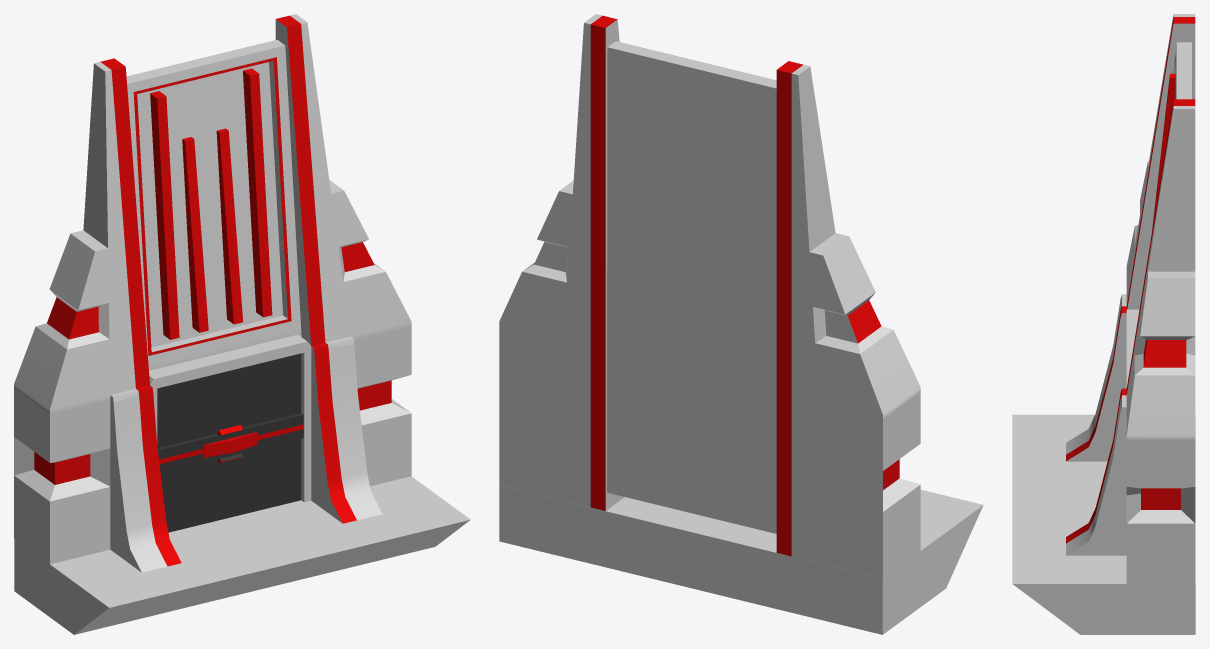
The model's file is gate_fortress.fbx.
3 views of the same model, side by side, from view 1: azimuth 30°, elevation 25°; view 2: azimuth 150°, elevation 25°; view 3: azimuth 270°, elevation 25° (orthographic). The views are drawn at different scales.
Parts seen in each view (by area): view 1: gate_fortress; view 2: gate_fortress; view 3: gate_fortress.
Boxes of the visible parts, <box> form: gate_fortress: <box>14,14,470,634</box>; gate_fortress: <box>499,14,983,634</box>; gate_fortress: <box>1012,14,1195,634</box>.
Size of the model in its own units: 79.23 by 106 by 36.12.
